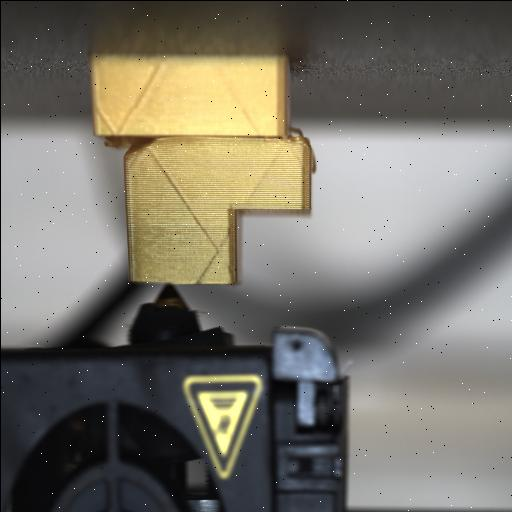layer_shift: (91, 128, 314, 162)
